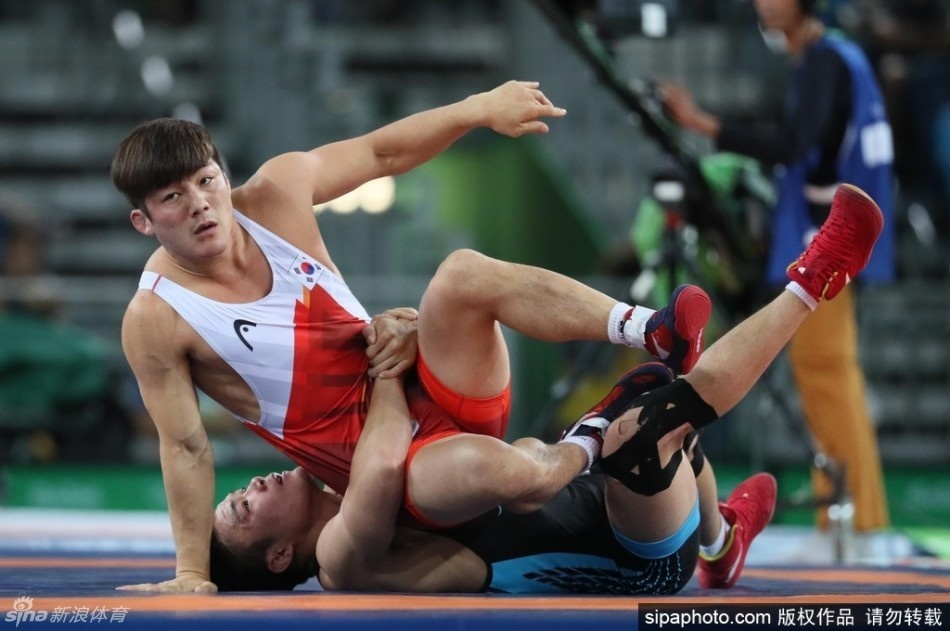falling: (86, 51, 766, 591)
